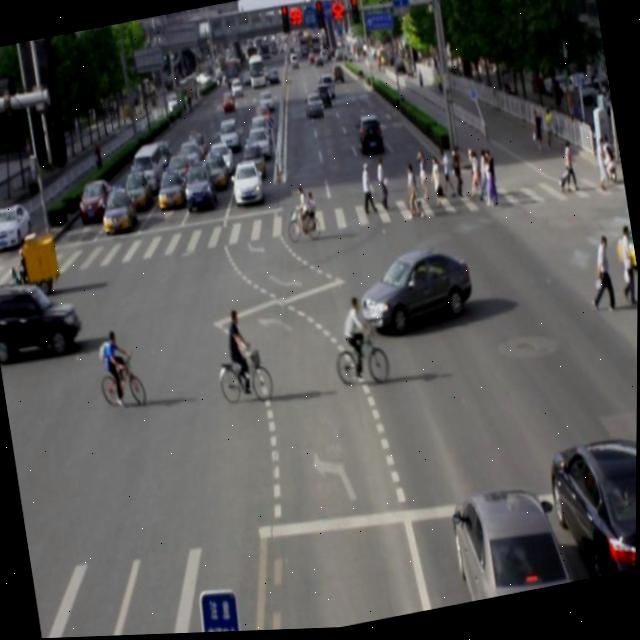car: (447, 484, 572, 607), (542, 432, 637, 588), (354, 240, 476, 340), (0, 270, 84, 365)
